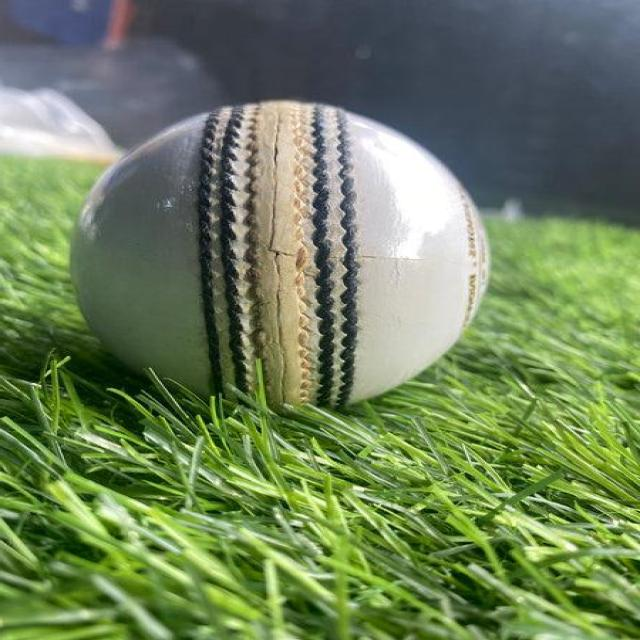ball: (66, 99, 490, 413)
